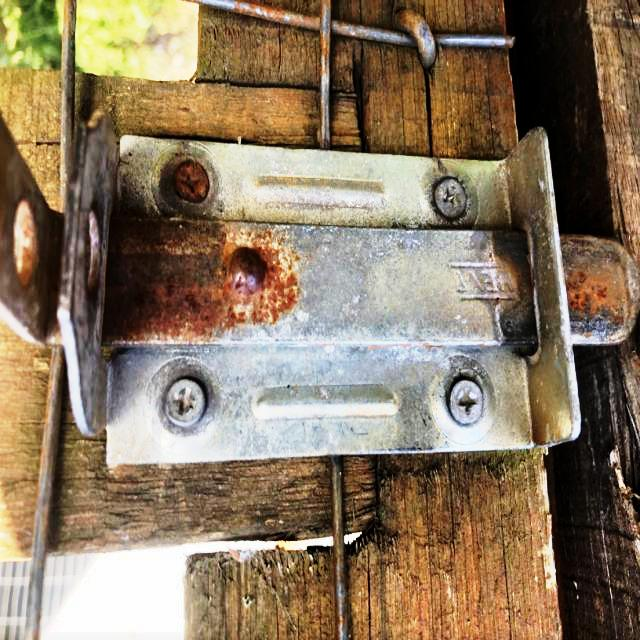Corrosion: (101, 215, 305, 346), (233, 0, 425, 80), (565, 265, 631, 330), (3, 198, 38, 285), (173, 158, 209, 204), (335, 534, 347, 640)
